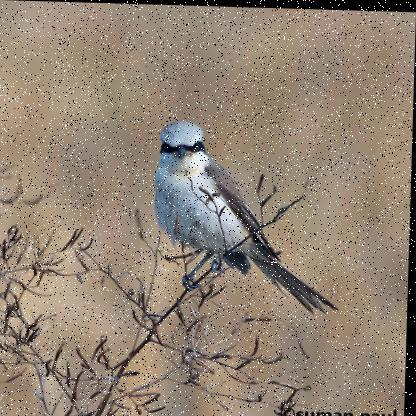Burung: (152, 120, 342, 314)
